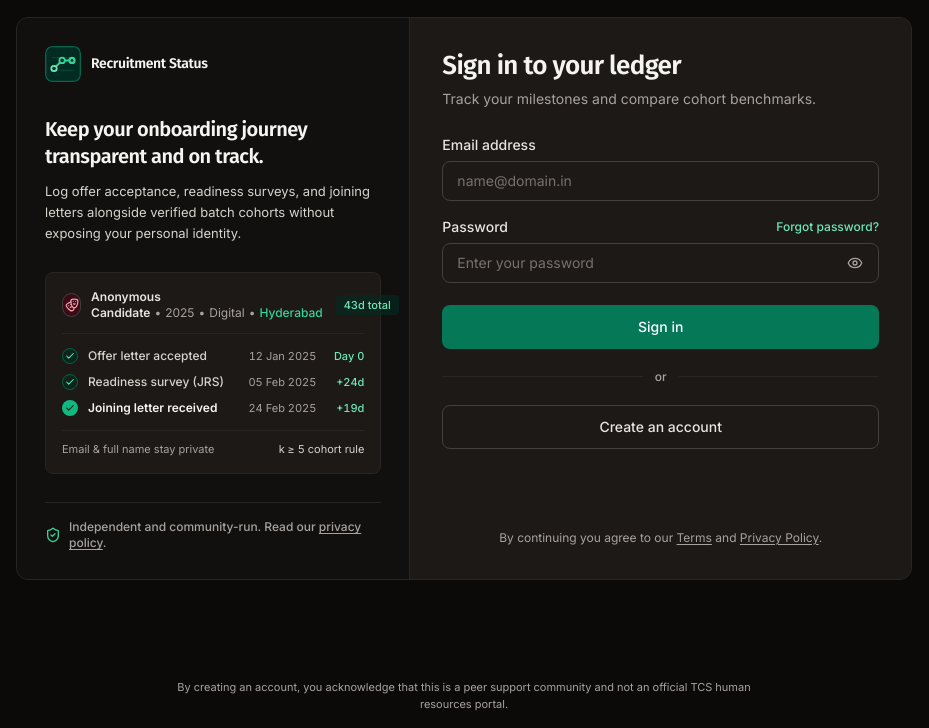
Test: LoginPage › shows the invalid-credentials strip on 401
Type "c@example.com" into the field labelled "Email address" at (661, 181), box [442,161,879,201]
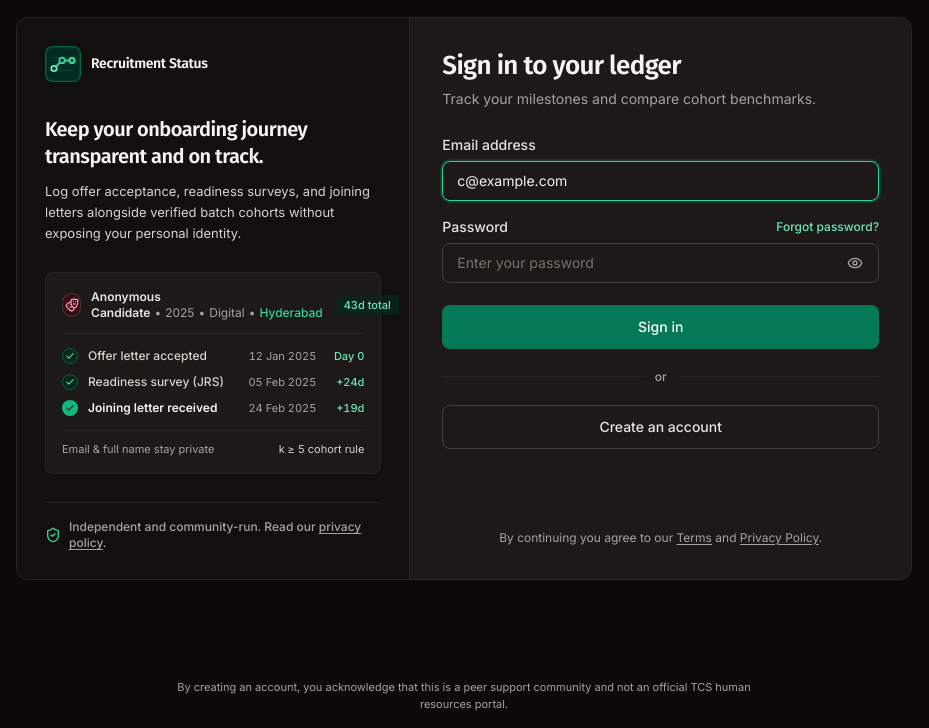
Type "password123" into the password field labelled "Password" at (661, 263), box [442,243,879,283]
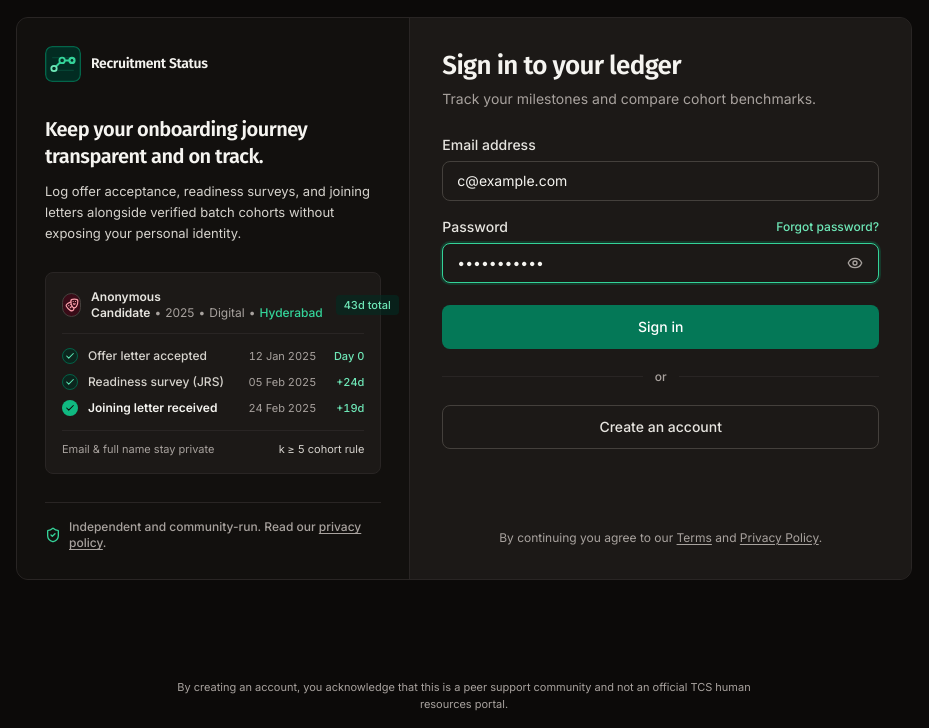
Click the button "Sign in" at (661, 327), box [442,305,879,349]
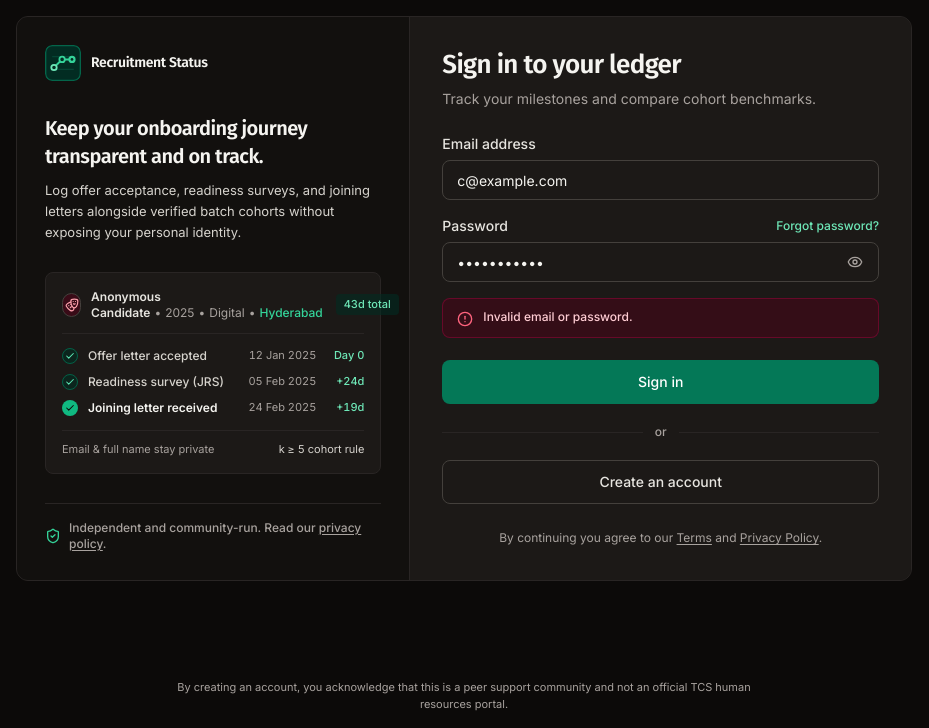
Result: the message reads "Invalid email or password." at [483,309,633,324]
